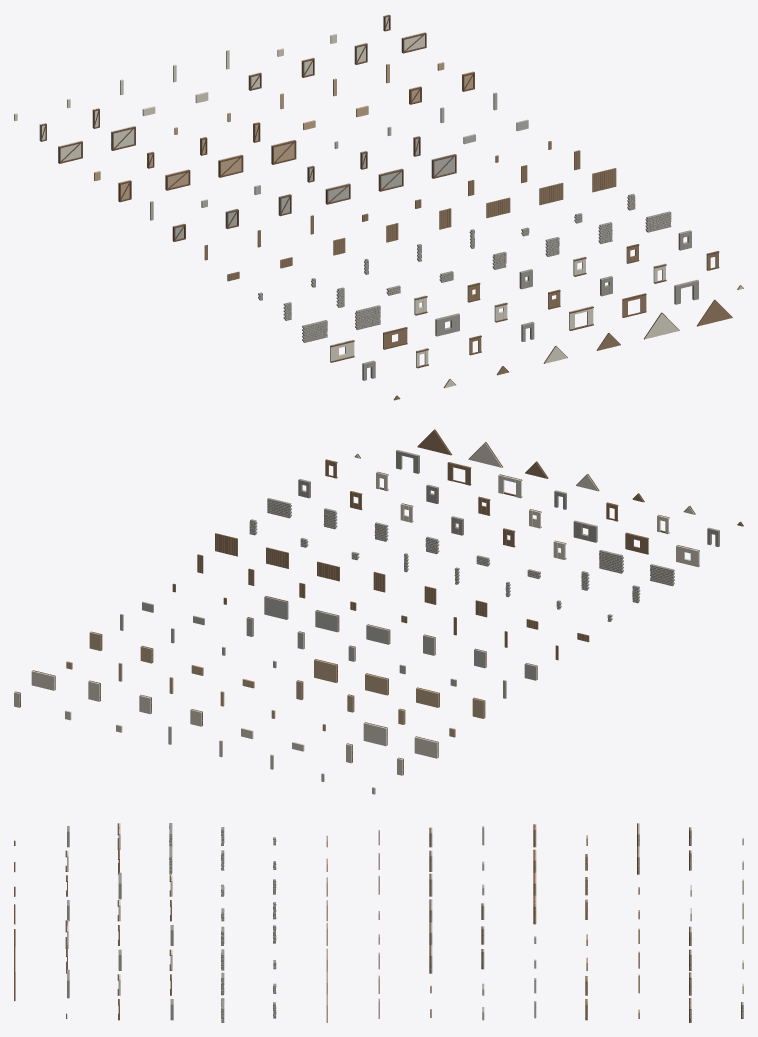
The model's file is walls.glb.
3 views of the same model, one above another, from view 1: azimuth 30°, elevation 25°; view 2: azimuth 150°, elevation 25°; view 3: azimuth 270°, elevation 25° (orthographic). The views are drawn at different scales.
Bounding box in the file's own units: 67.14 × 3.65 × 112.
